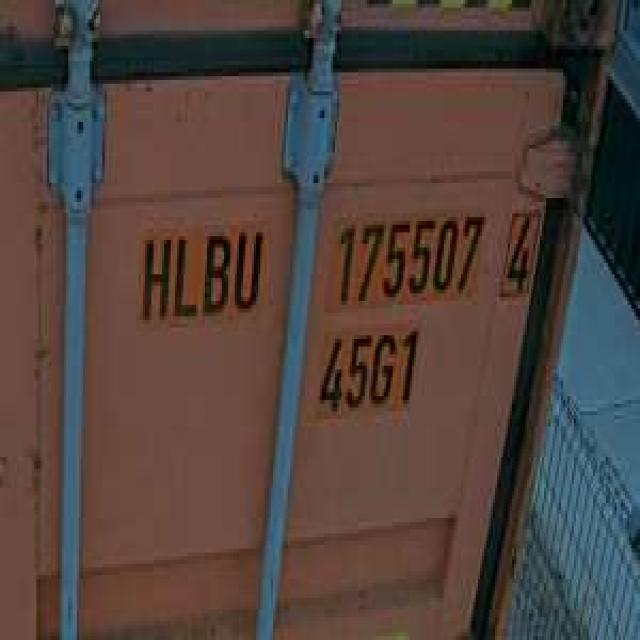dv: (497, 194, 542, 305)
owner: (132, 214, 267, 332)
serial: (331, 202, 486, 308)
size: (312, 320, 424, 419)
